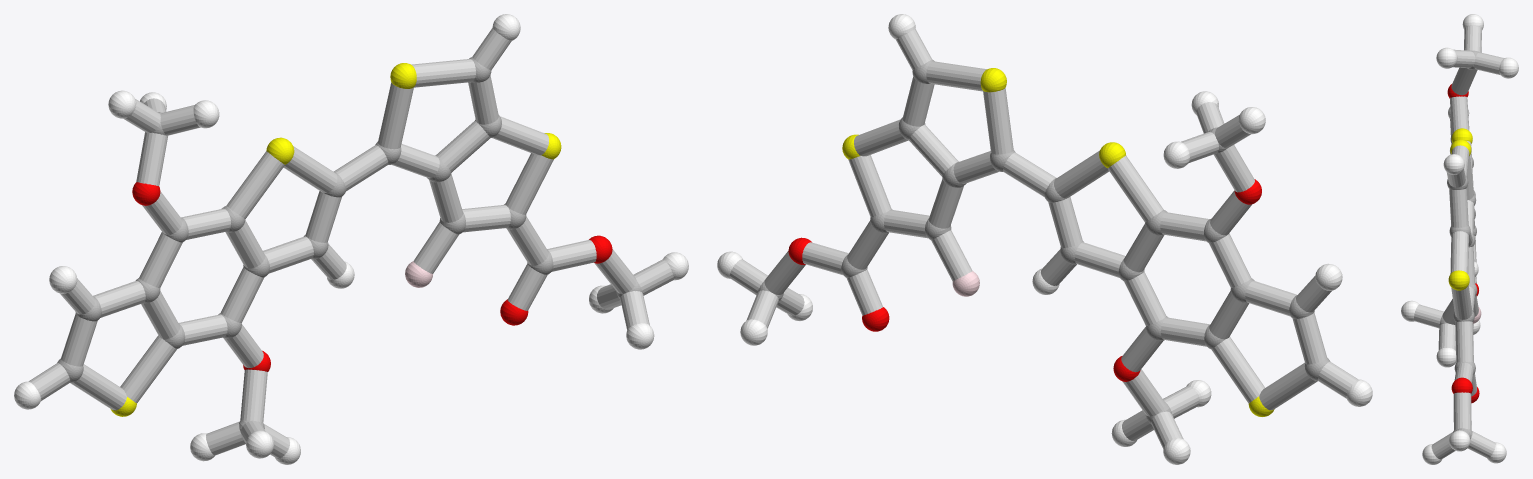
The model's file is color.glb.
3 views of the same model, side by side, from view 1: azimuth 30°, elevation 25°; view 2: azimuth 150°, elevation 25°; view 3: azimuth 270°, elevation 25° (orthographic). The views are drawn at different scales.
Visible parts, largest first — view 1: grp15205, grp8689, grp1, grp7241, grp13395; view 2: grp15205, grp8689, grp1, grp13395, grp7241; view 3: grp15205, grp8689, grp1, grp7241, grp13395.
Boxes of the visible parts, x1,y1,x2,y2 form: grp15205: (28,28,673,458); grp8689: (14,14,688,464); grp1: (57,57,642,432); grp7241: (110,63,561,416); grp13395: (132,182,612,371); grp15205: (729,29,1358,448); grp8689: (717,14,1372,464); grp1: (758,59,1330,424); grp13395: (788,179,1261,381); grp7241: (842,68,1274,416); grp15205: (1413,26,1504,459); grp8689: (1401,14,1518,464); grp1: (1439,50,1479,437); grp7241: (1448,128,1472,290); grp13395: (1447,84,1479,403).
Size of the model in its own units: 16.47 by 9.28 by 3.33.
